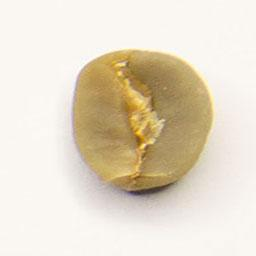premium: (68, 44, 217, 196)
